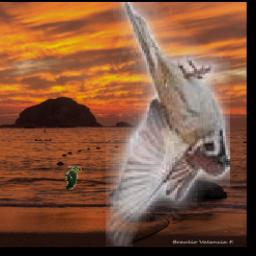Sparrow: (106, 2, 230, 246)
Woodpecker: (65, 167, 83, 191)
